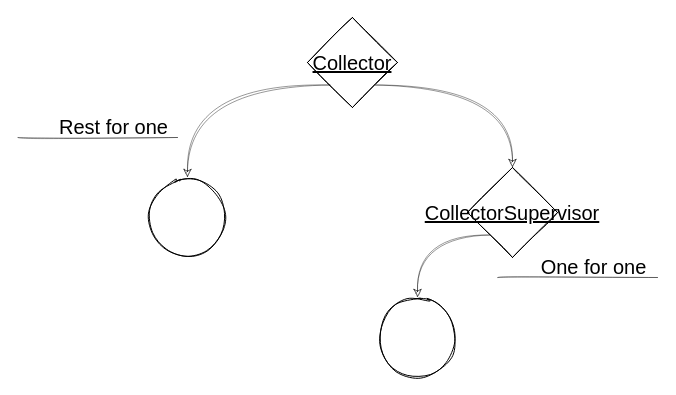
This 676x395 diagram has some shape labels left out. Each missing label, with the box of its shape:
GenCollector: (146, 176, 228, 258)
GenWorker: (376, 296, 458, 378)
